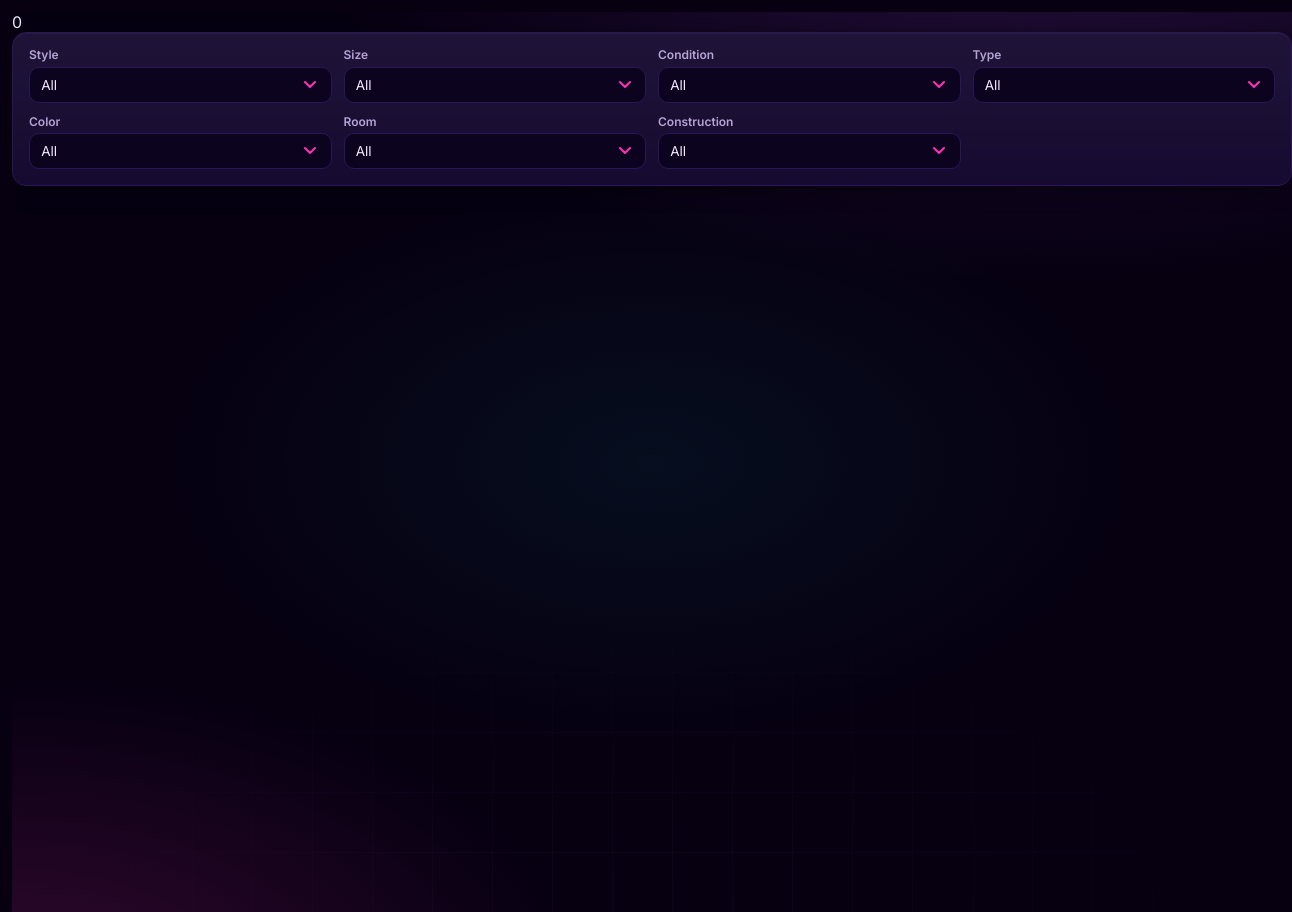
Scenario: HatFilterBar › hides Clear until something is set, then resets every shared filter
Expected: the button "clear filters" is not shown
Select "Odysea" in the dropdown labelled "Style" at [180, 85], box [29,67,332,103]
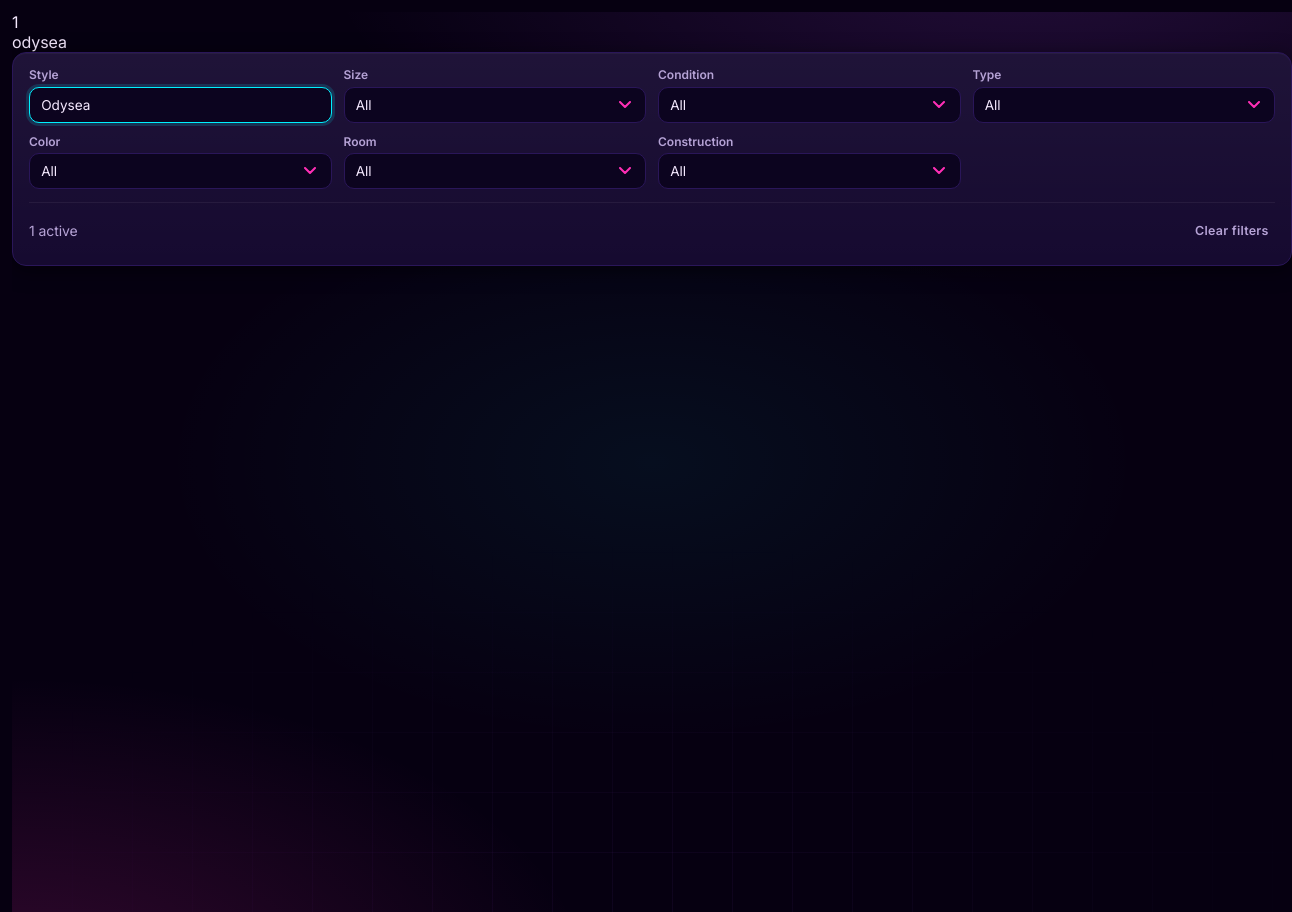
Select "Closet" in the dropdown labelled "Room" at [495, 171], box [344,153,646,189]
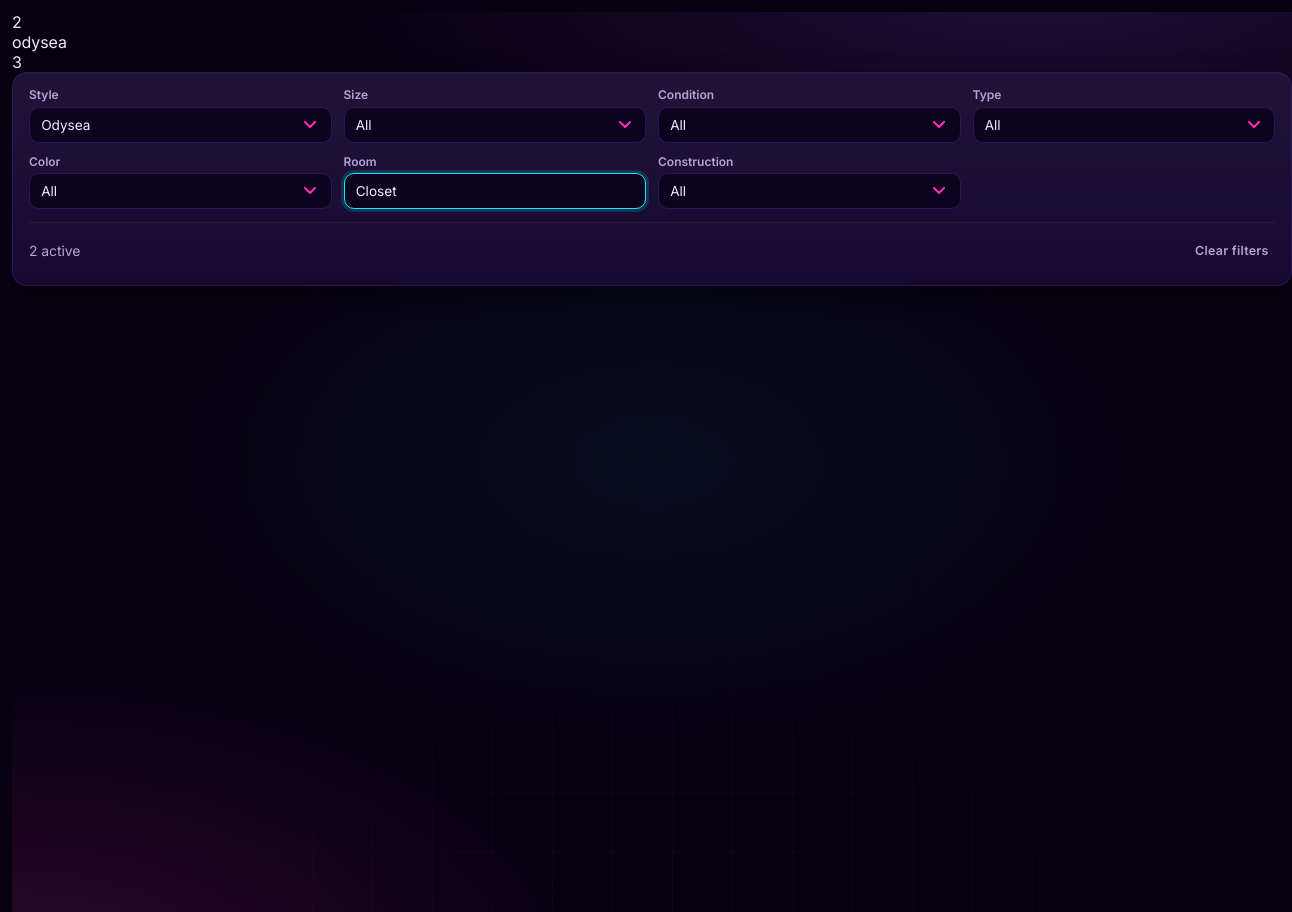
Click the button "Clear filters".
click(1232, 251)  # box [1189,233,1275,269]
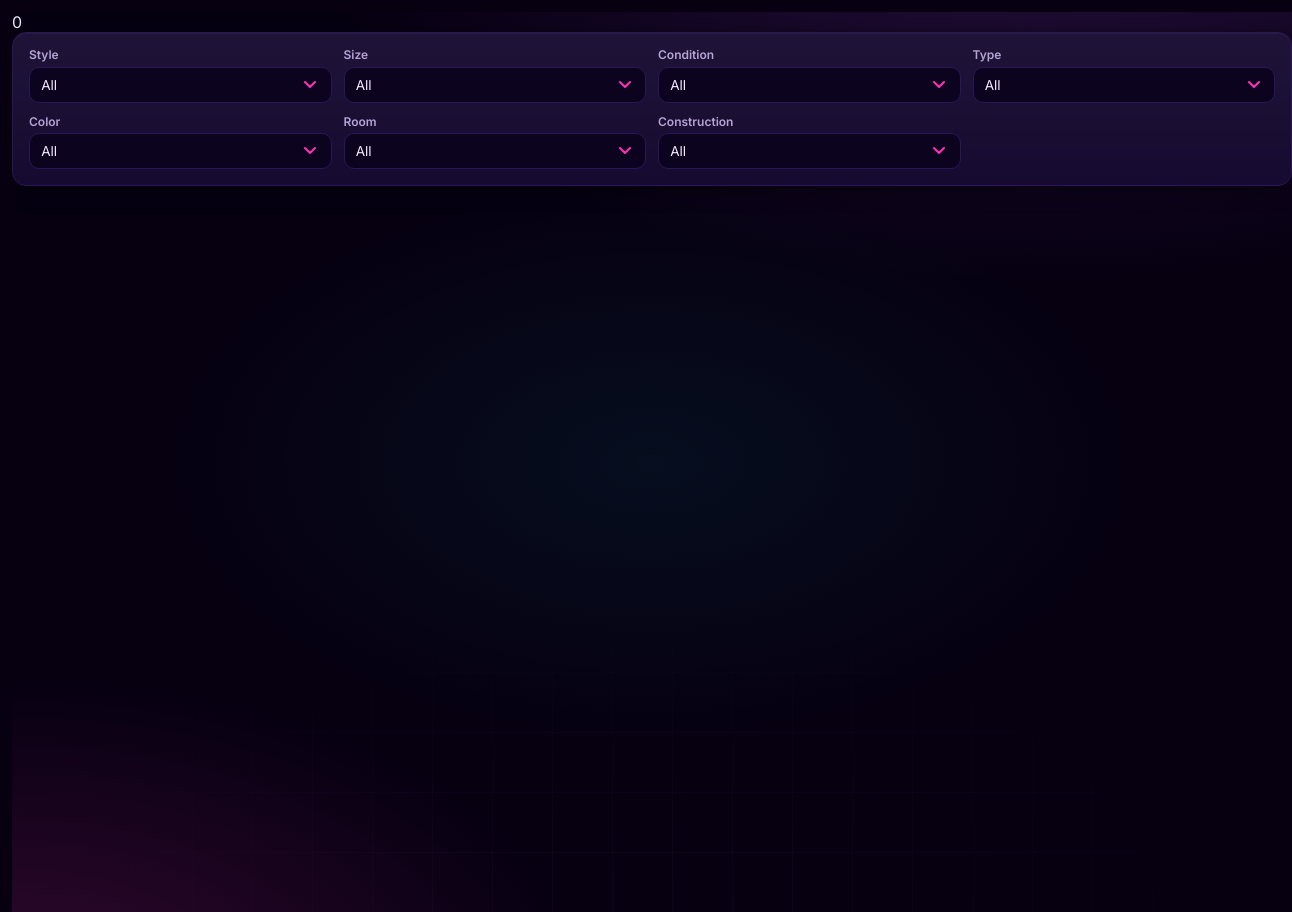
Result: the text with test id "active" reads "0" at [12,12,22,32]
